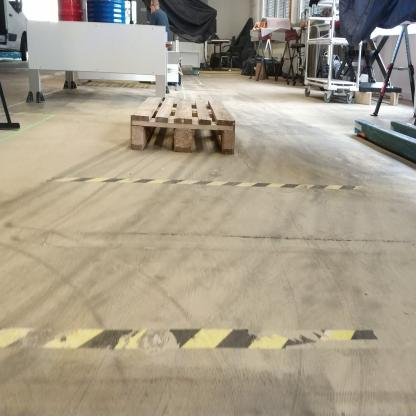BoxFace: (125, 93, 237, 163)
